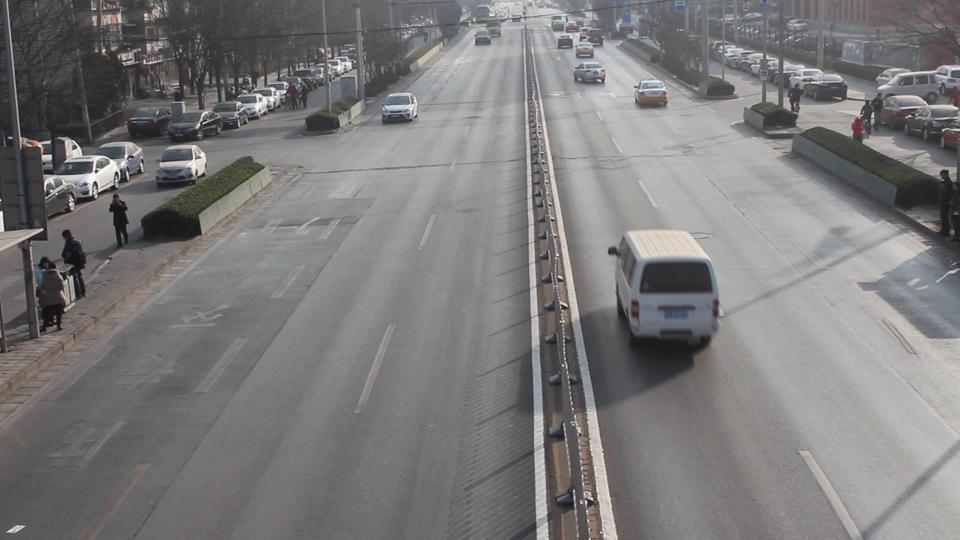car: (610, 229, 721, 347), (54, 156, 119, 200), (868, 93, 933, 130), (155, 144, 208, 187), (879, 71, 950, 102), (903, 106, 960, 141), (94, 142, 145, 180), (168, 111, 224, 142), (127, 105, 173, 138), (801, 71, 849, 101), (44, 176, 77, 216), (381, 92, 420, 124), (208, 102, 249, 129), (782, 65, 824, 90), (634, 78, 669, 108), (235, 93, 270, 118), (573, 61, 606, 84), (933, 65, 960, 93), (267, 82, 293, 107), (260, 85, 285, 110), (580, 28, 604, 48), (941, 126, 960, 150), (575, 40, 593, 59), (474, 30, 491, 46), (557, 34, 573, 50)
